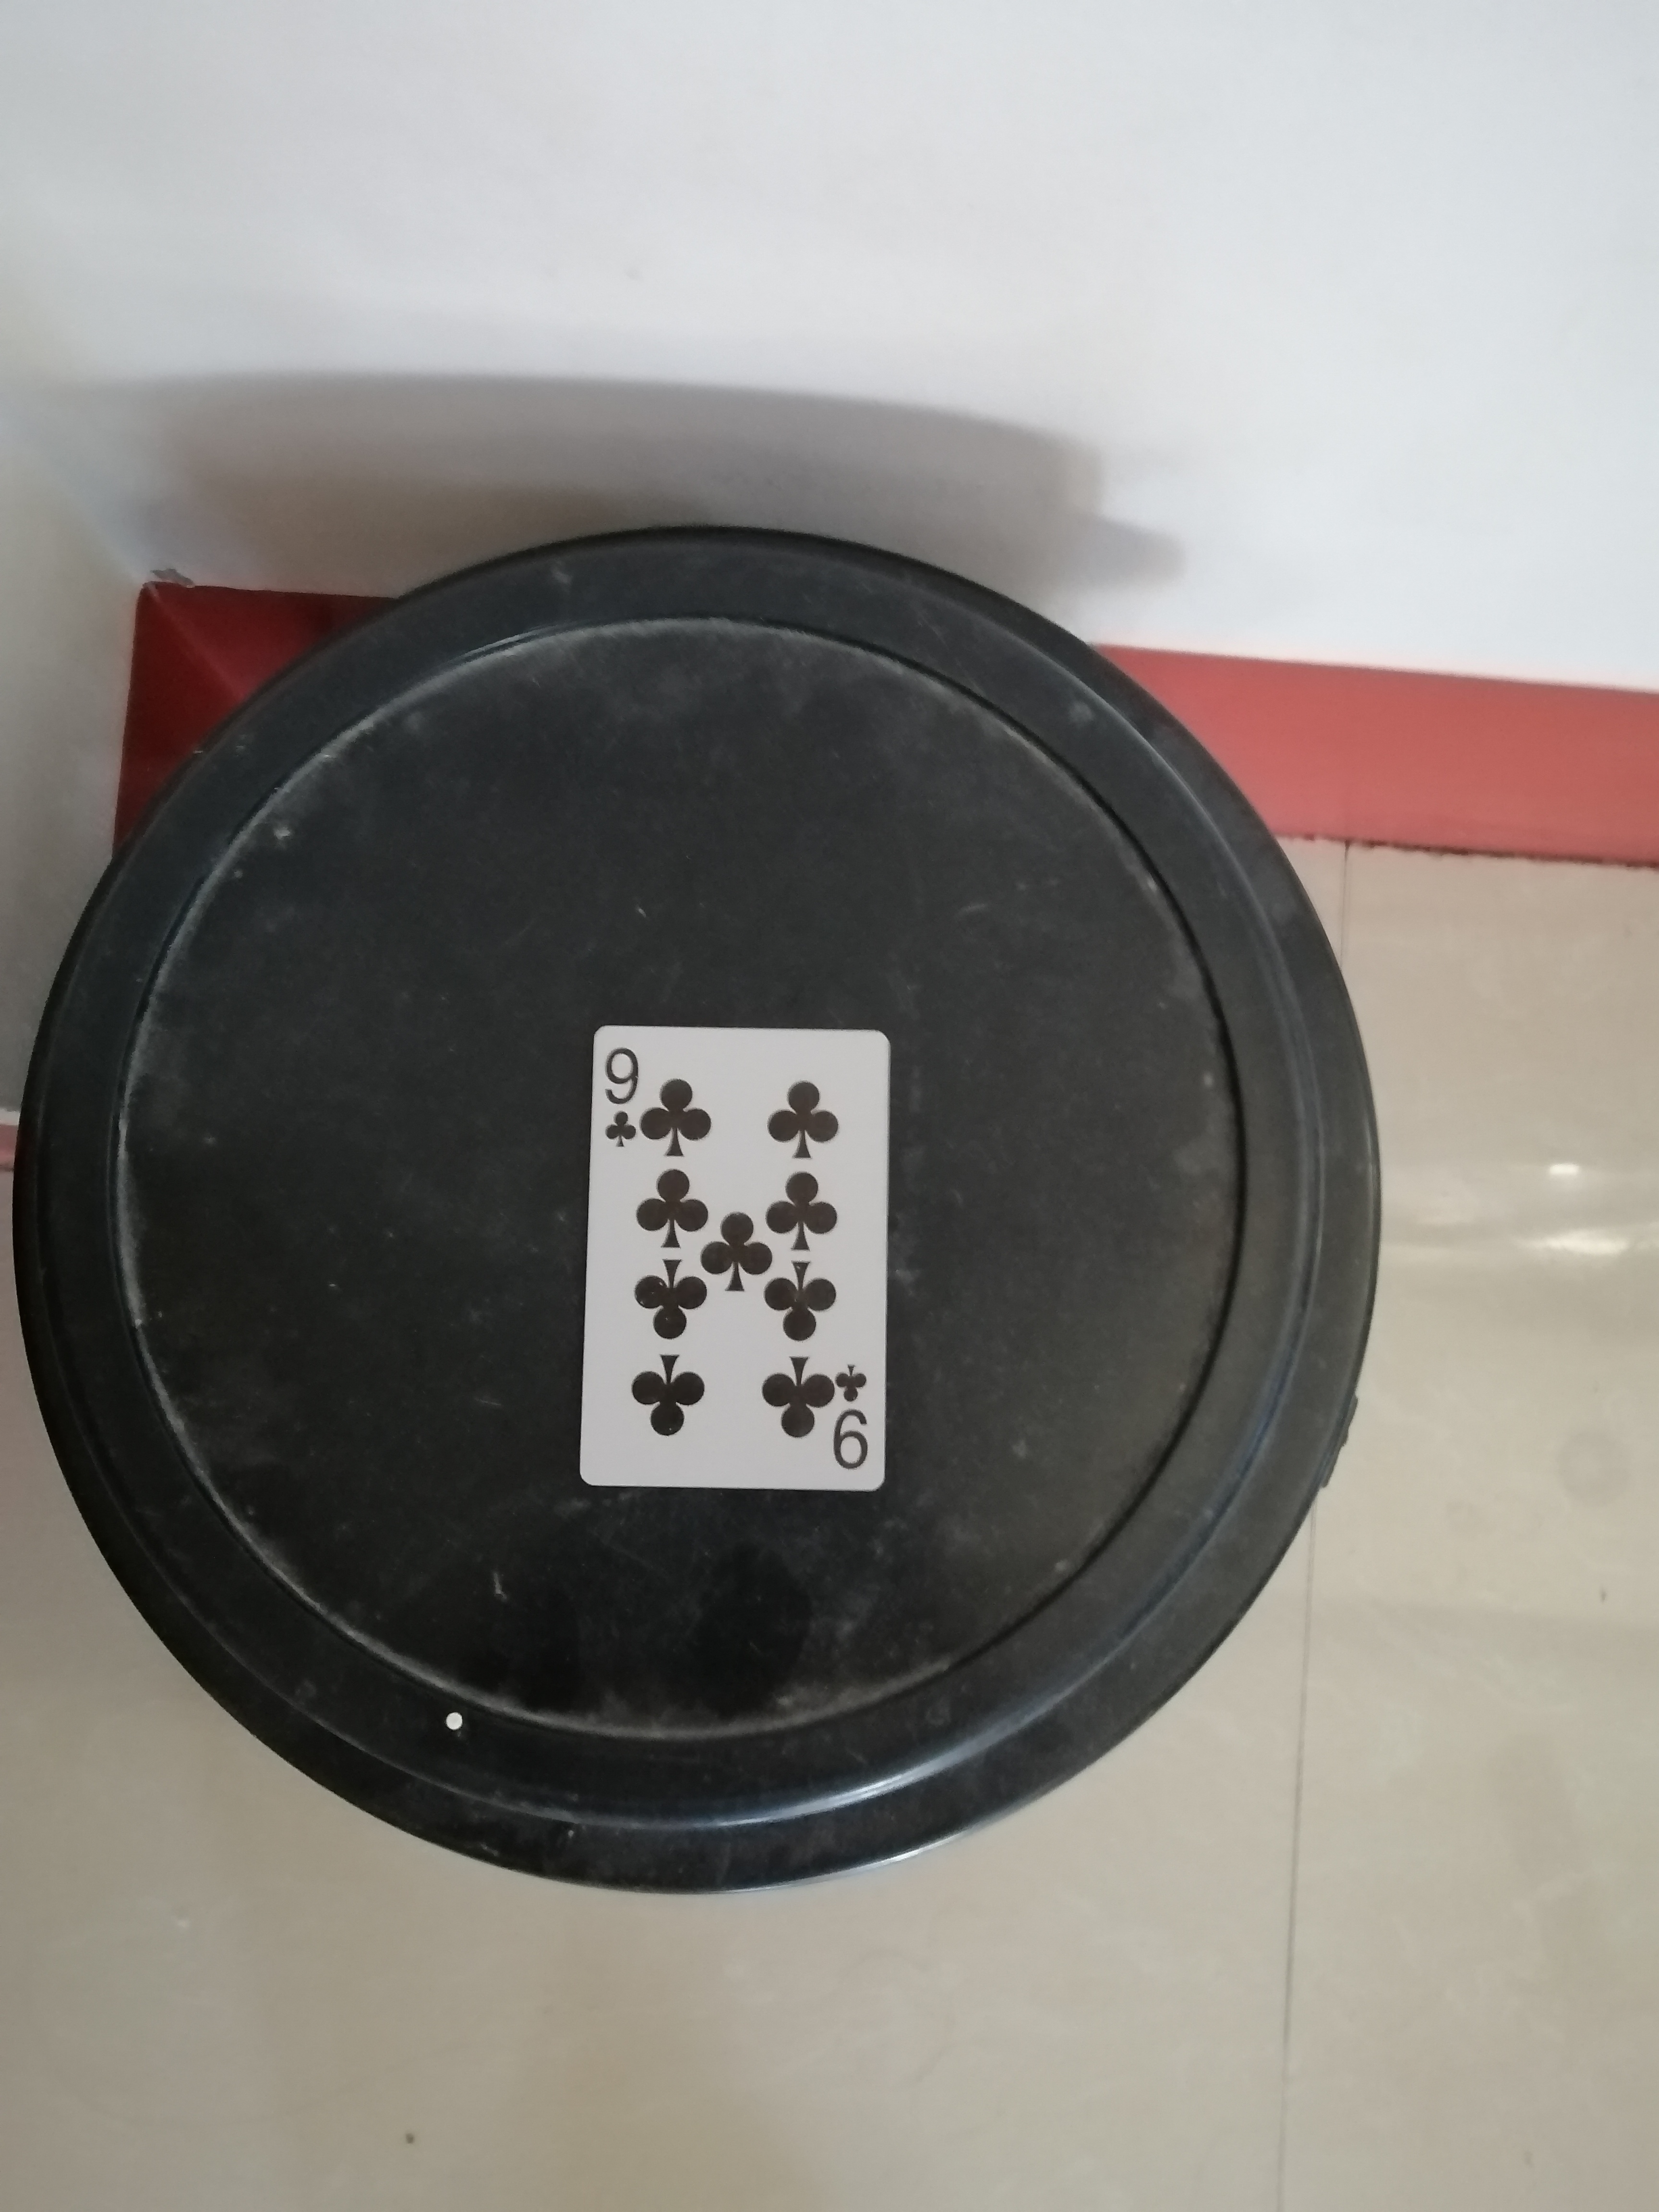nine: (561, 1015, 904, 1503)
